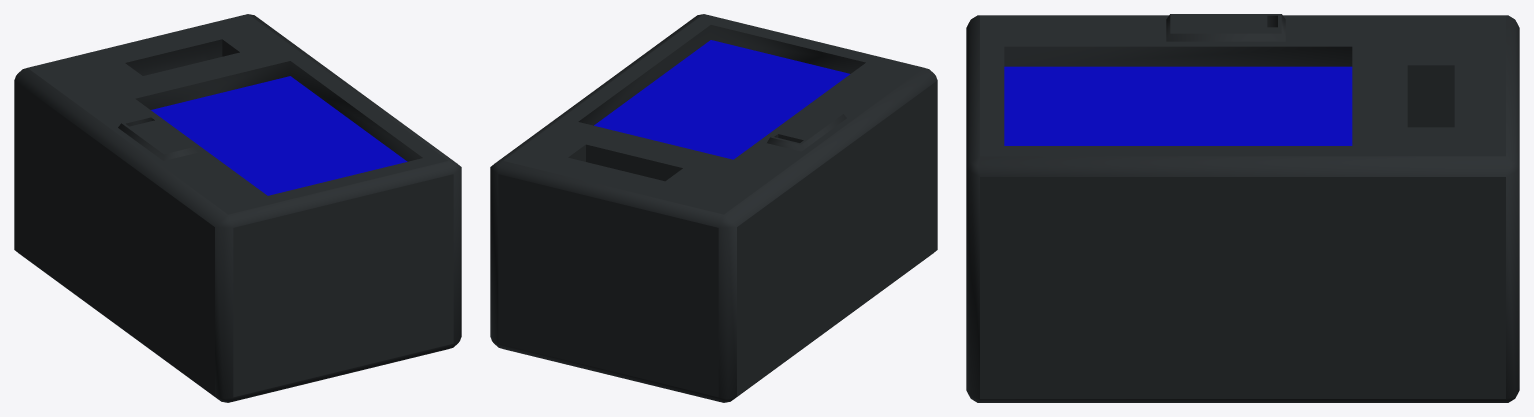
The model's file is SnackMachine.fbx.
3 views of the same model, side by side, from view 1: azimuth 30°, elevation 25°; view 2: azimuth 150°, elevation 25°; view 3: azimuth 270°, elevation 25° (orthographic). The views are drawn at different scales.
Parts seen in each view (by area): view 1: Cube.002; view 2: Cube.002; view 3: Cube.002.
Part boxes in pixels (x1,y1,x2,y2): Cube.002: [14, 14, 461, 402]; Cube.002: [490, 14, 937, 402]; Cube.002: [966, 14, 1519, 402].
Bounding box in the file's own units: 2.27 × 1.7 × 3.36.
